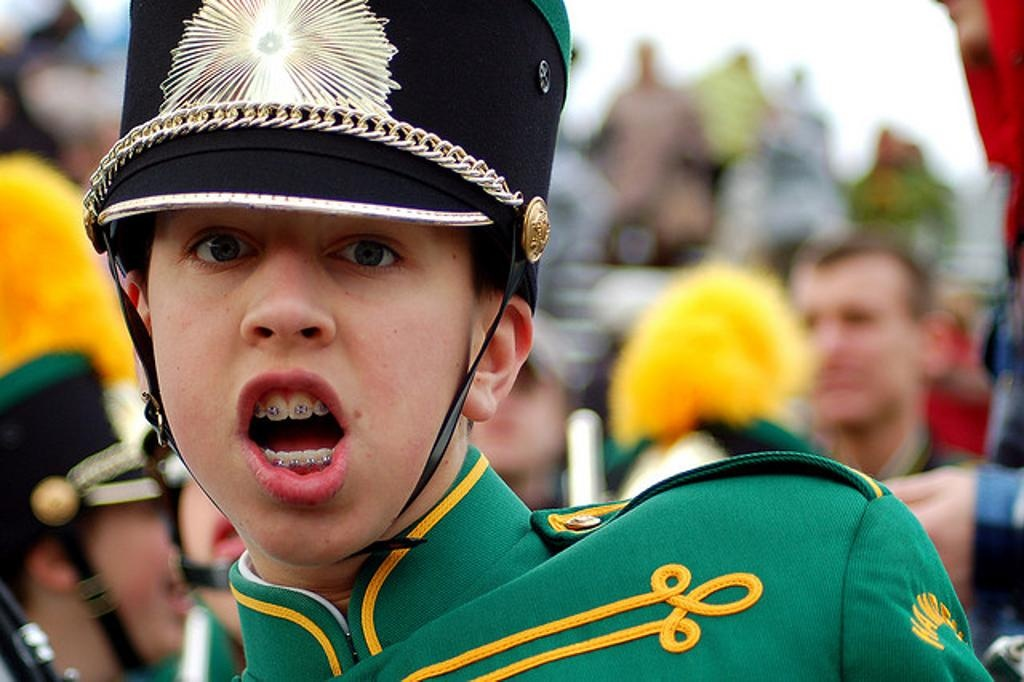human_face: (148, 92, 468, 566), (788, 260, 918, 418), (86, 462, 192, 648)
